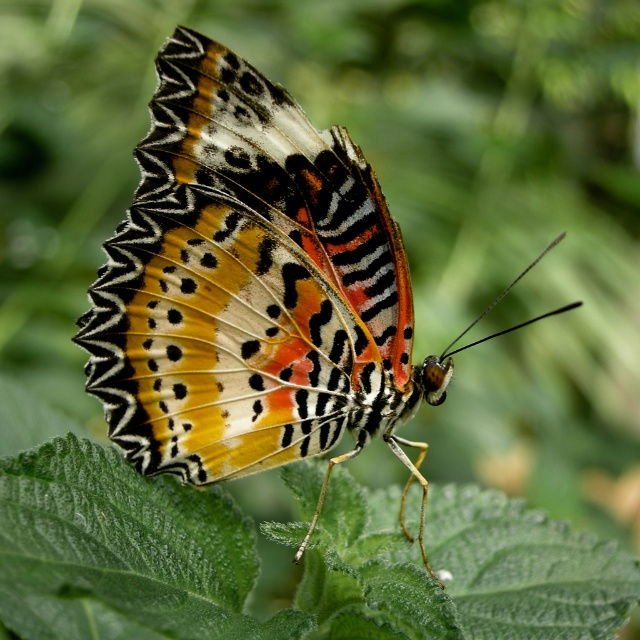Butterfly: (70, 25, 583, 588)
